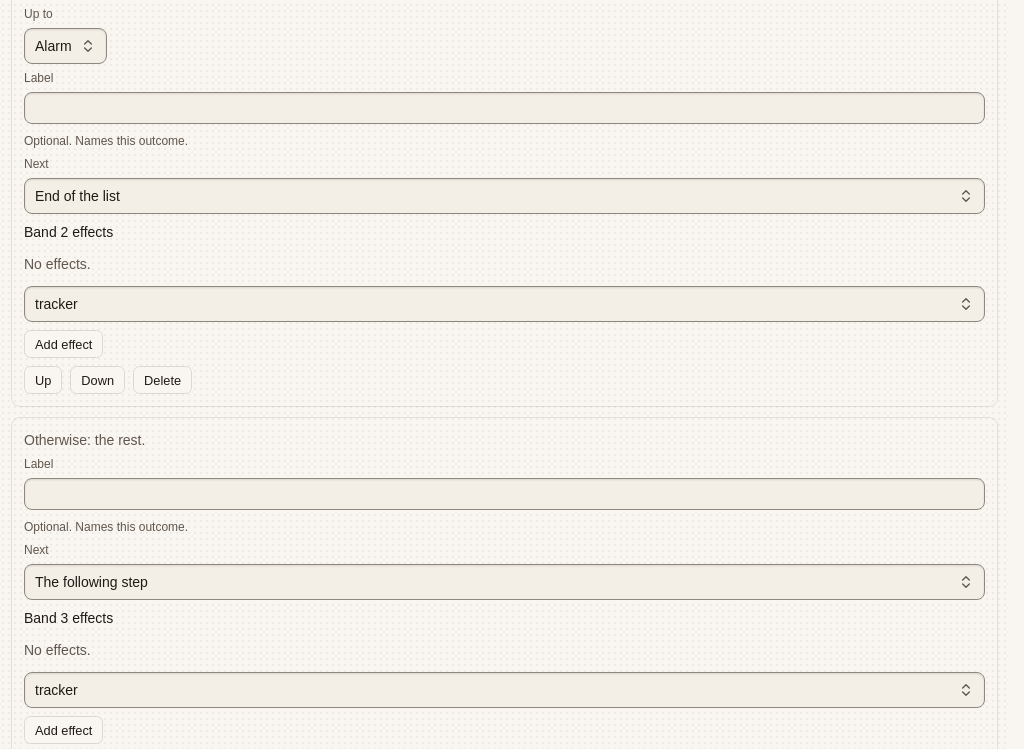
Test: the step list editor › after bands move or go › keeps a limit with its band when the band becomes the last one, and flags it
(page scrolled)
Click the button with aria-label "Move band 2 down" at (98, 380), box [70,366,125,394]
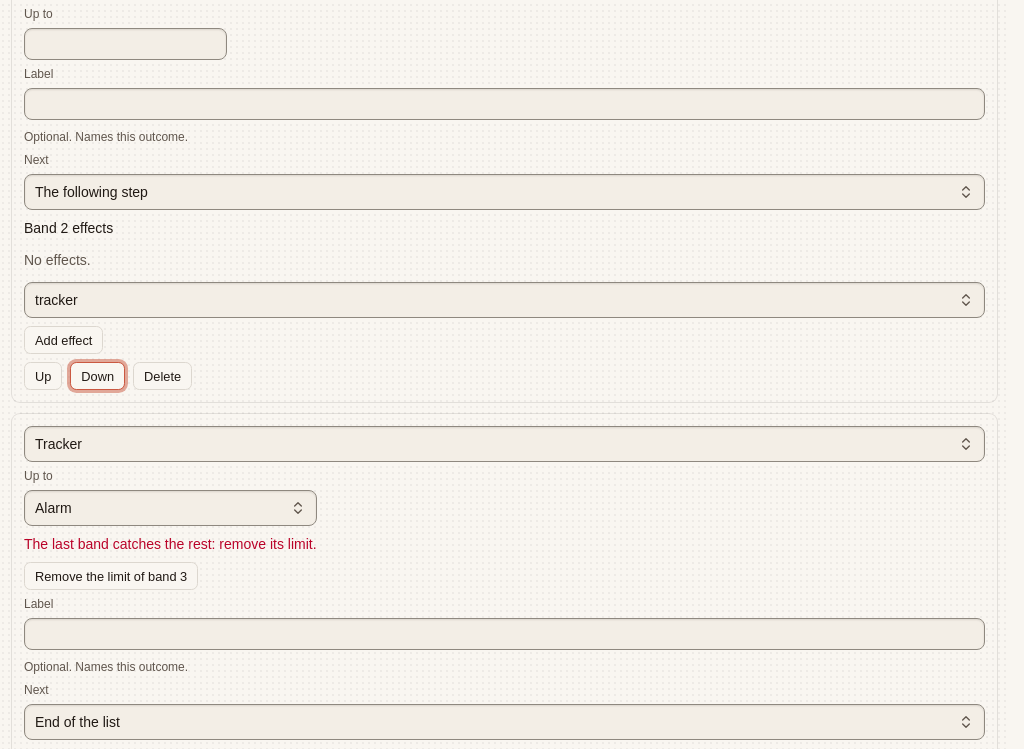
Check: the dropdown named "Up to" holds "alarm", box [24,490,317,526]
Check: the text "The last band catches the rest: remove its limit." is shown, box [24,534,317,554]
Type "9" into the field labelled "Up to" at (126, 44), box [24,28,227,60]
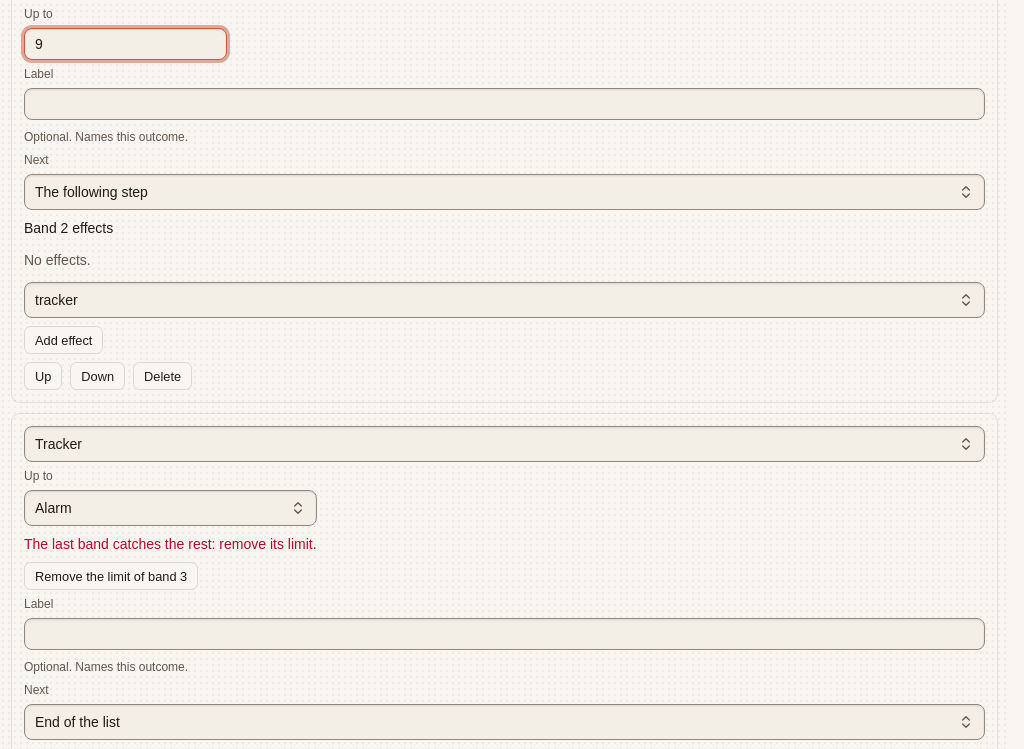
Click the button "Remove the limit of band 3" at (111, 576), box [24,562,198,590]
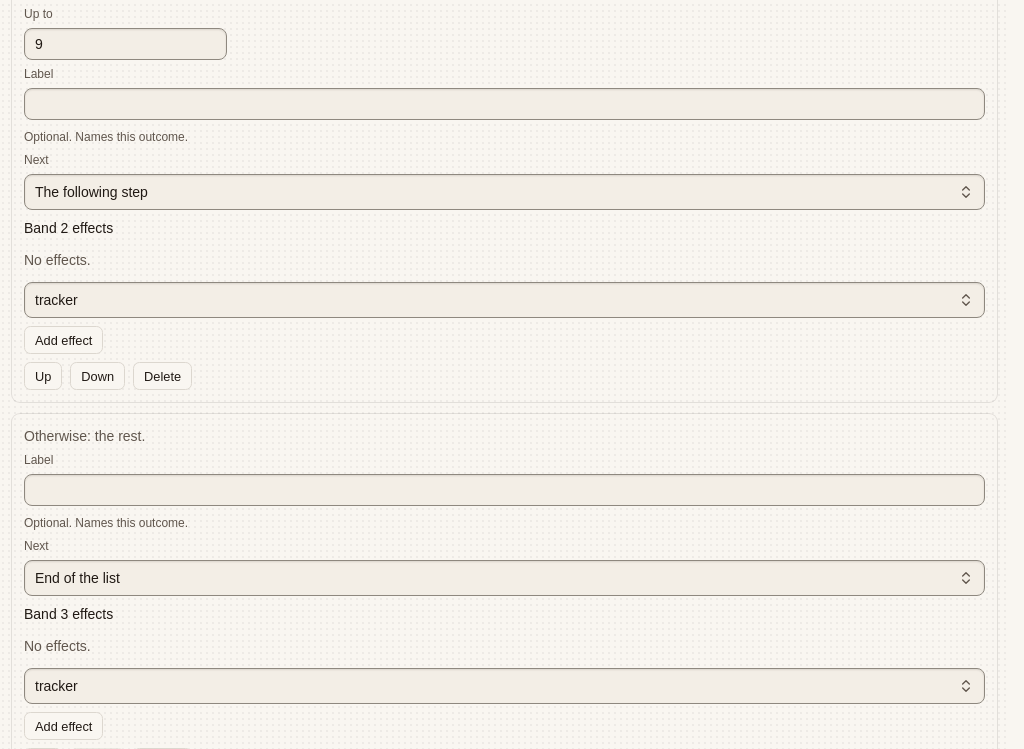
Check: the text "Otherwise: the rest." is shown, box [24,428,145,444]
